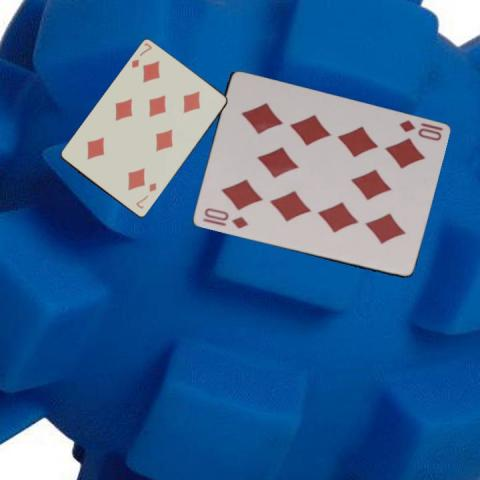10d: (201, 204, 249, 230), (396, 117, 444, 143)
7d: (133, 180, 158, 211), (129, 40, 153, 70)
